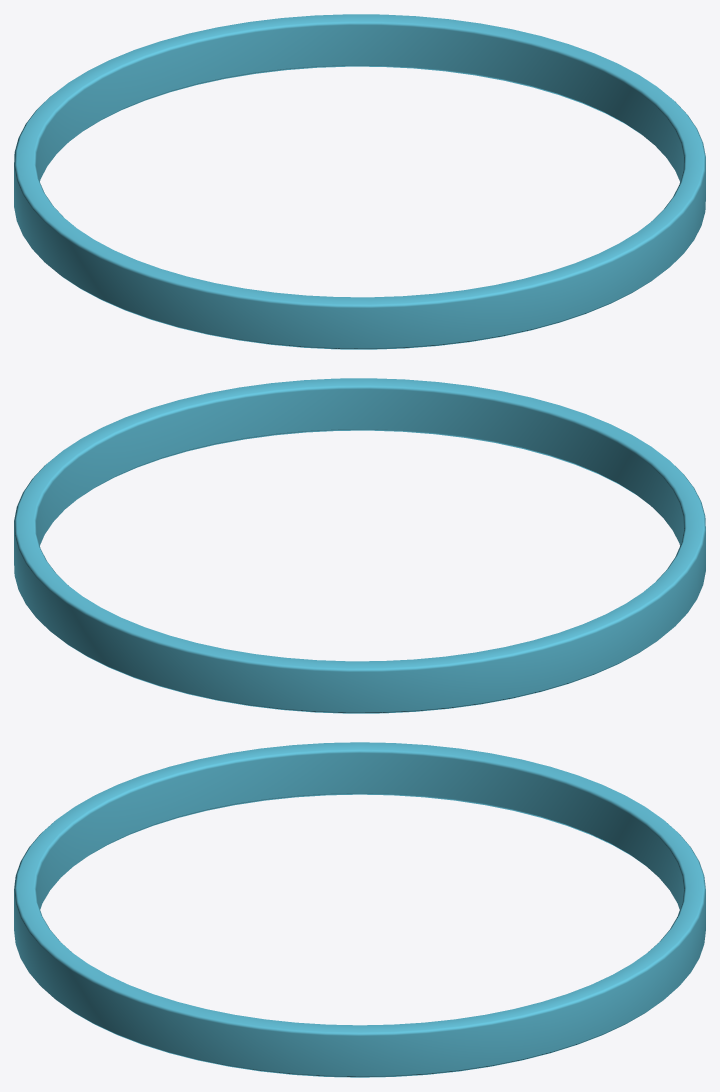
The picture shows the model from 3 angles, top to bottom: view 1: azimuth 30°, elevation 25°; view 2: azimuth 150°, elevation 25°; view 3: azimuth 270°, elevation 25°; orthographic projection.
Visible parts, largest first — view 1: seal_body; view 2: seal_body; view 3: seal_body.
Boxes of the visible parts, x1=… form: seal_body: x1=14, y1=14, x2=705, y2=349; seal_body: x1=14, y1=378, x2=705, y2=713; seal_body: x1=14, y1=742, x2=705, y2=1077.
Size of the model in its own units: 0.1969 by 0.0143 by 0.1969.
